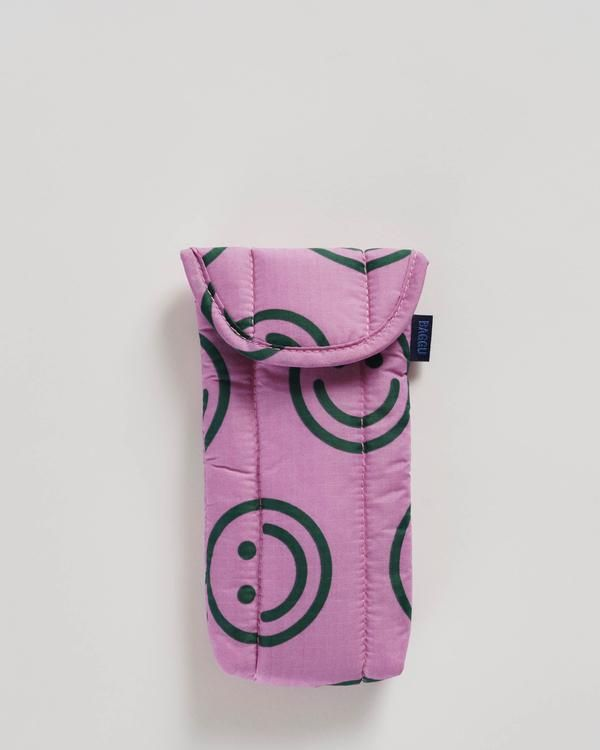nylon: (182, 246, 429, 687)
